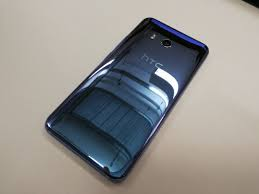htc: (39, 15, 212, 183)
